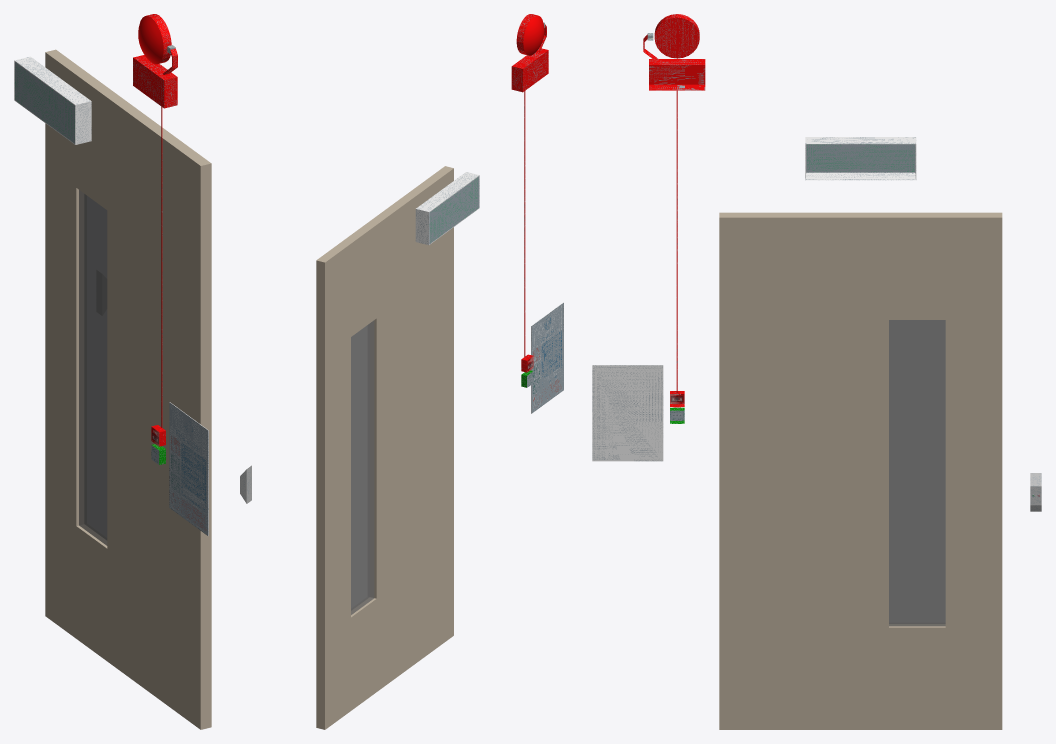
Rendered from internal_emergency_exit.fbx.
The picture shows the model from 3 angles, left to right: view 1: azimuth 30°, elevation 25°; view 2: azimuth 150°, elevation 25°; view 3: azimuth 270°, elevation 25°; orthographic projection. The views are drawn at different scales.
Visible parts, largest first — view 1: internal_emergency_exit_single_door1, Group2, Group3; view 2: internal_emergency_exit_single_door1, Group2, Group3; view 3: internal_emergency_exit_single_door1, Group2.
Part boxes in pixels (bbox=[...]): internal_emergency_exit_single_door1: bbox=[14, 49, 211, 729]; Group2: bbox=[133, 14, 177, 108]; Group3: bbox=[161, 107, 162, 427]; internal_emergency_exit_single_door1: bbox=[316, 166, 563, 729]; Group2: bbox=[511, 14, 548, 92]; Group3: bbox=[524, 91, 525, 356]; internal_emergency_exit_single_door1: bbox=[592, 137, 1002, 729]; Group2: bbox=[643, 14, 705, 90].
Bounding box in the file's own units: 0.602 × 2.65 × 1.59.
